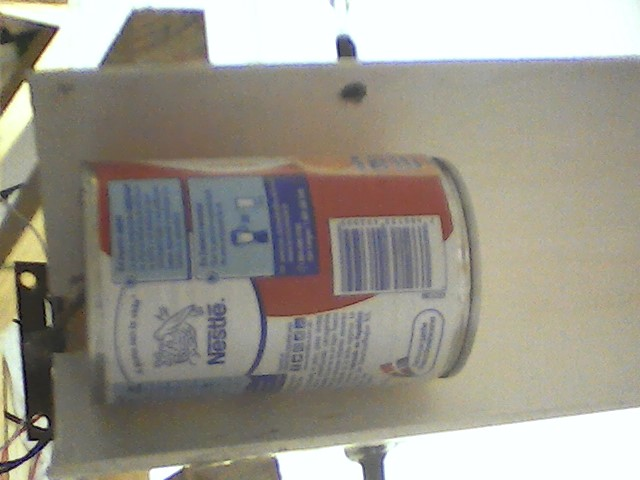lata: (72, 152, 495, 412)
